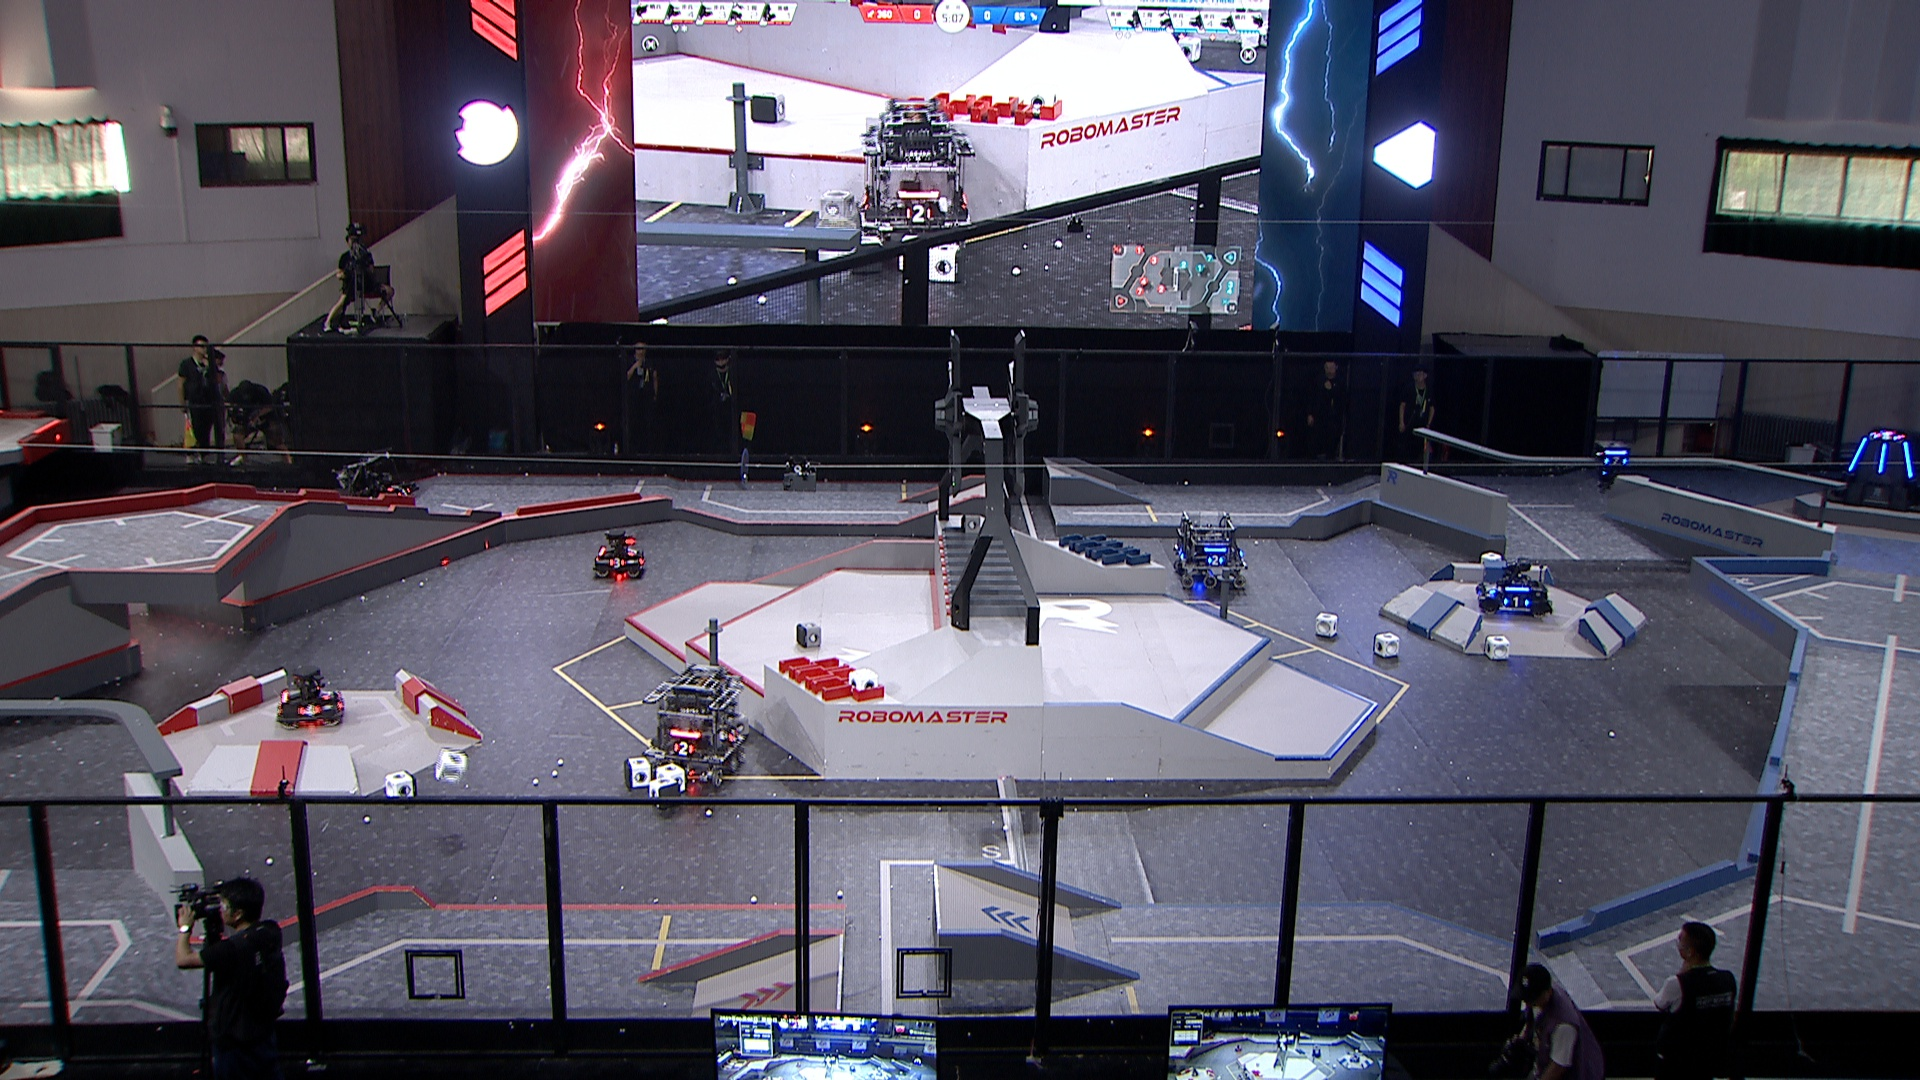armor: (1847, 436, 1869, 472), (1902, 440, 1915, 479), (1501, 593, 1532, 609), (670, 740, 694, 757), (1876, 440, 1888, 473), (1602, 455, 1629, 469), (295, 704, 320, 717), (1205, 553, 1225, 568), (724, 727, 740, 744), (384, 483, 404, 493), (609, 556, 626, 568), (396, 487, 413, 498), (319, 688, 334, 700), (626, 547, 637, 556)
base: (1822, 429, 1920, 512)
car: (641, 661, 746, 789), (1171, 506, 1250, 593), (272, 666, 348, 728), (335, 454, 418, 510), (1476, 556, 1552, 617), (589, 527, 647, 579)
ignore: (855, 98, 977, 240), (1873, 431, 1899, 443)
watcher: (1589, 438, 1631, 495)
